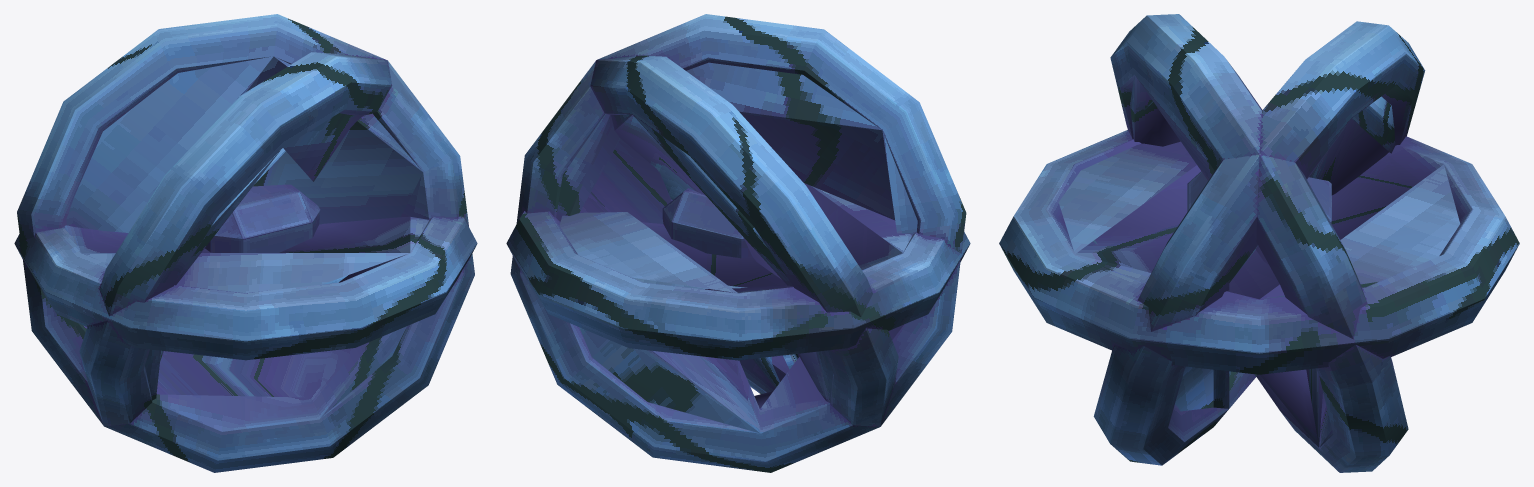
The model's file is item_gyroid_anomaly.glb.
3 views of the same model, side by side, from view 1: azimuth 30°, elevation 25°; view 2: azimuth 150°, elevation 25°; view 3: azimuth 270°, elevation 25° (orthographic). The views are drawn at different scales.
Parts seen in each view (by area): view 1: AlienTorus, AlienTorus_Interior; view 2: AlienTorus, AlienTorus_Interior; view 3: AlienTorus, AlienTorus_Interior.
Boxes of the visible parts, x1,y1,x2,y2 form: AlienTorus: [14, 14, 477, 472]; AlienTorus_Interior: [205, 184, 320, 252]; AlienTorus: [506, 14, 970, 472]; AlienTorus_Interior: [662, 188, 751, 258]; AlienTorus: [999, 14, 1519, 472]; AlienTorus_Interior: [1187, 171, 1331, 223].
Bounding box in the file's own units: 0.5861 × 0.5384 × 0.5861.
Materials: 1 (1 with a texture image).
